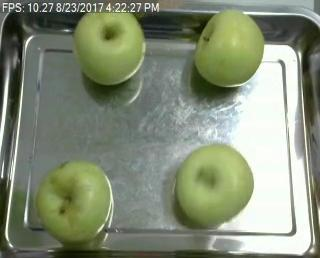fruit: (172, 138, 258, 233), (65, 5, 155, 95), (33, 153, 119, 240), (185, 5, 272, 88)
